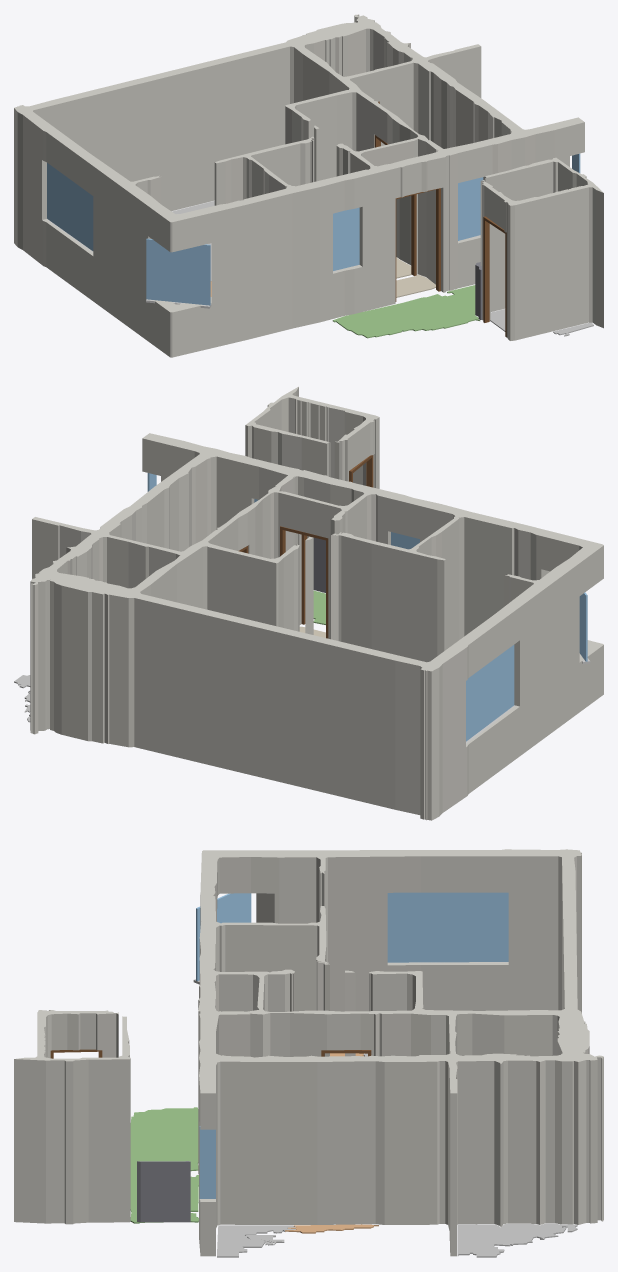
3 views of the same model, one above another, from view 1: azimuth 30°, elevation 25°; view 2: azimuth 150°, elevation 25°; view 3: azimuth 270°, elevation 25° (orthographic). The views are drawn at different scales.
Parts seen in each view (by area): view 1: walls, floor_0_Outdoor, window_6, window_5, window_7, window_8, door_4, door_3, floor_7_Entry, door_2; view 2: walls, window_5, railings, door_2, window_6; view 3: walls, window_5, floor_0_Outdoor, railings, floor_16_Undefined, floor_5_Bed_Room, window_6, window_9, floor_3_Living_Room.
Part boxes in pixels (x1,y1,x2,y2): walls: (14,14,603,357); floor_0_Outdoor: (332,285,480,338); window_6: (146,238,210,305); window_5: (47,163,93,250); window_7: (333,207,359,270); window_8: (458,177,483,240); door_4: (483,216,506,337); door_3: (395,188,440,301); floor_7_Entry: (396,274,435,297); door_2: (411,194,416,275); walls: (30,386,603,820); window_5: (466,645,514,741); railings: (313,537,325,592); door_2: (280,526,328,638); window_6: (579,592,587,661); walls: (14,849,603,1256); window_5: (387,892,508,962); floor_0_Outdoor: (130,1107,198,1223); railings: (137,1161,190,1222); floor_16_Undefined: (458,1223,577,1257); floor_5_Bed_Room: (217,1225,295,1257); window_6: (196,893,251,981); window_9: (199,1126,215,1198); floor_3_Living_Room: (285,1224,378,1233).
Size of the model in its own units: 8.76 by 2.72 by 8.86.
